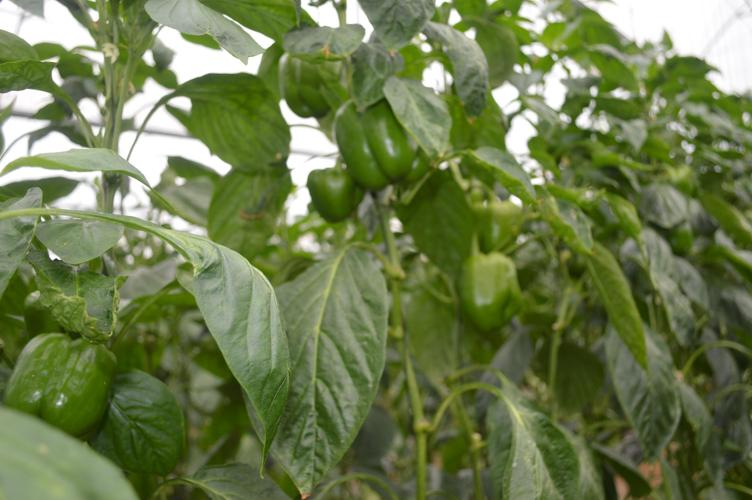BellPepper: (10, 335, 113, 433), (332, 98, 423, 185), (457, 251, 518, 327), (273, 54, 328, 116), (467, 192, 516, 246), (309, 163, 351, 218)
